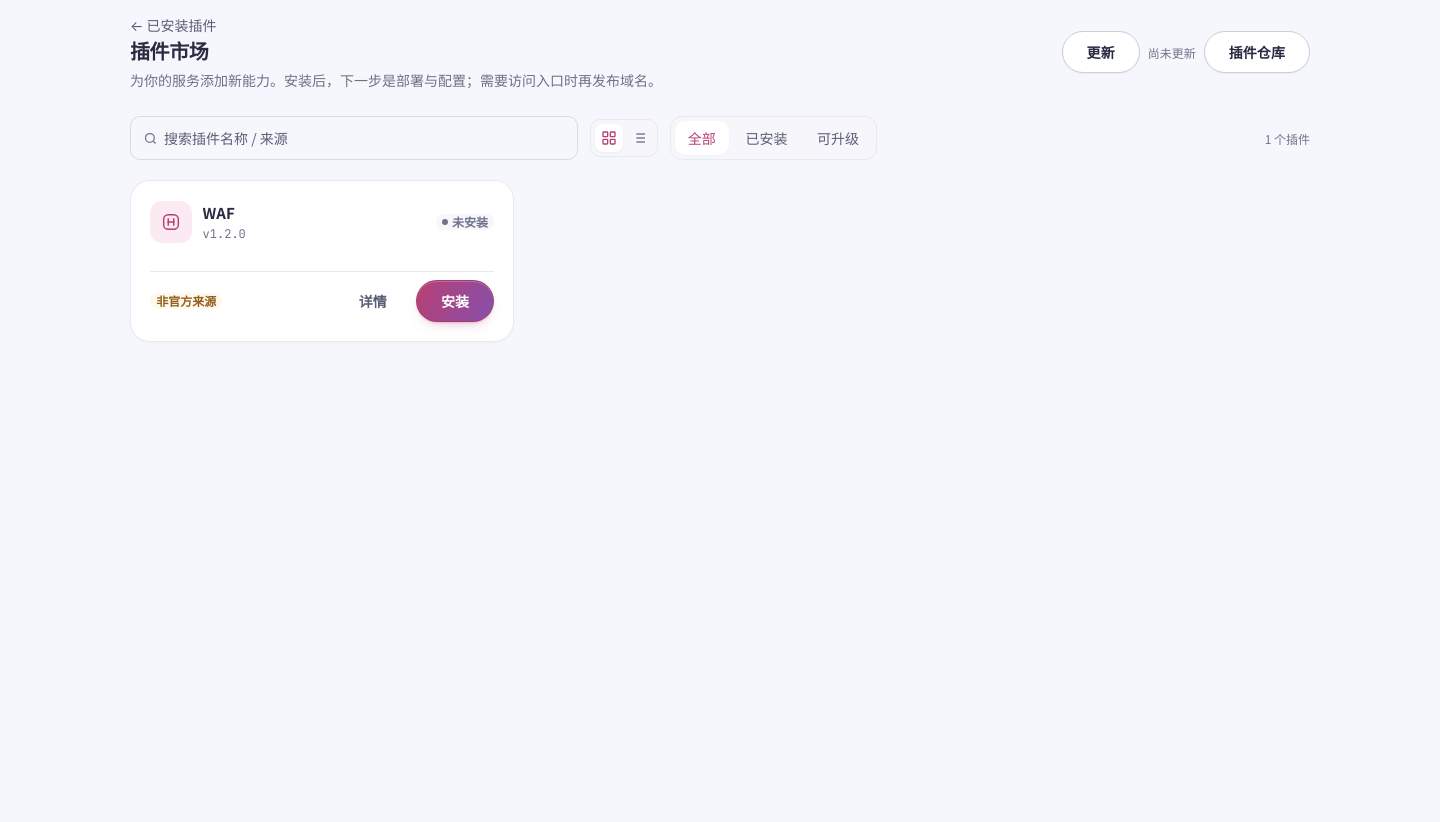
Test: PluginMarketplacePage › does not mutate from stale installed data if the final status refresh fails
Click the button "安装": (455, 301) [416, 280, 494, 322]
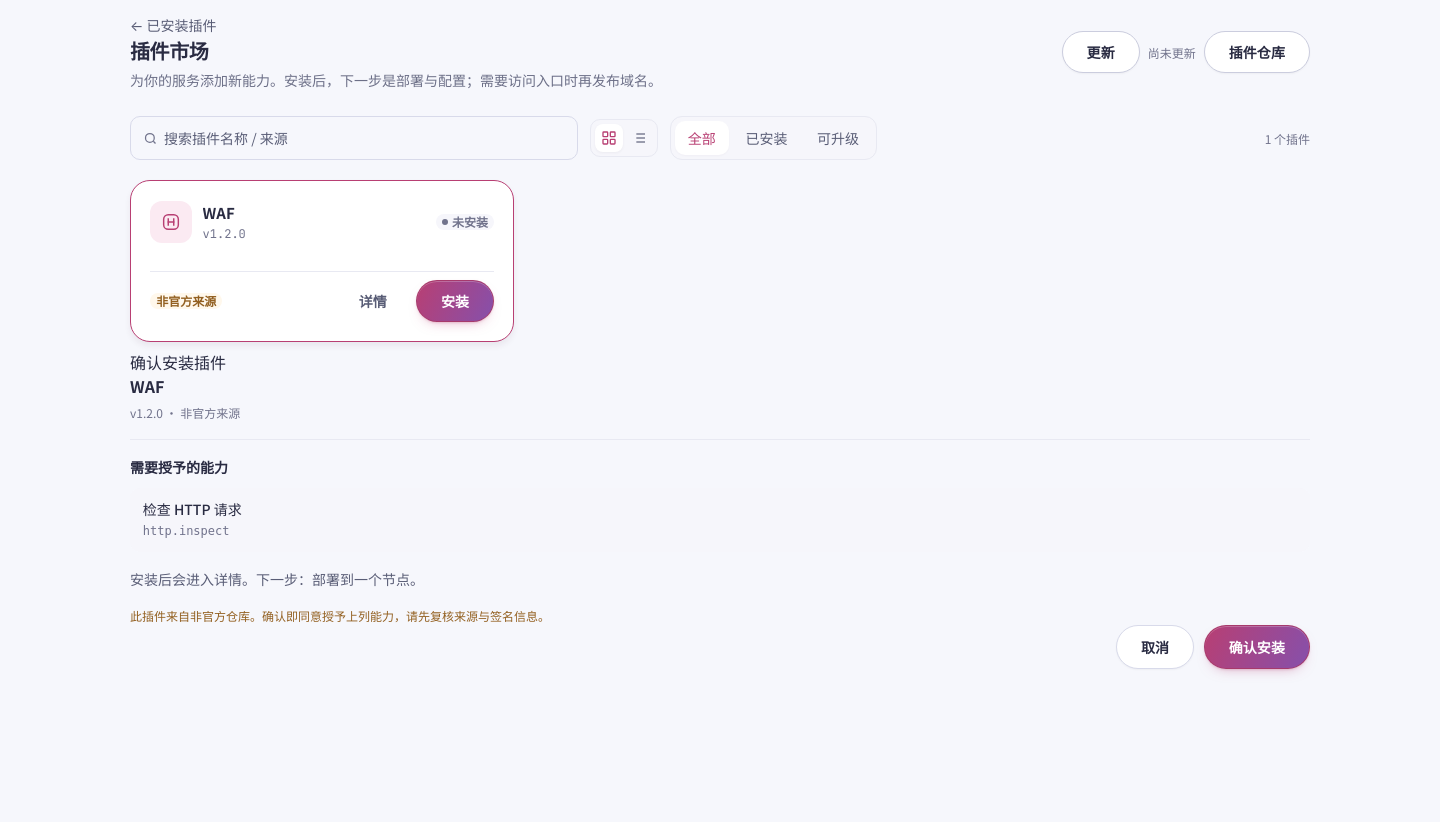
Click the button with test id "marketplace-confirm-submit": (1257, 647) [1204, 625, 1310, 669]
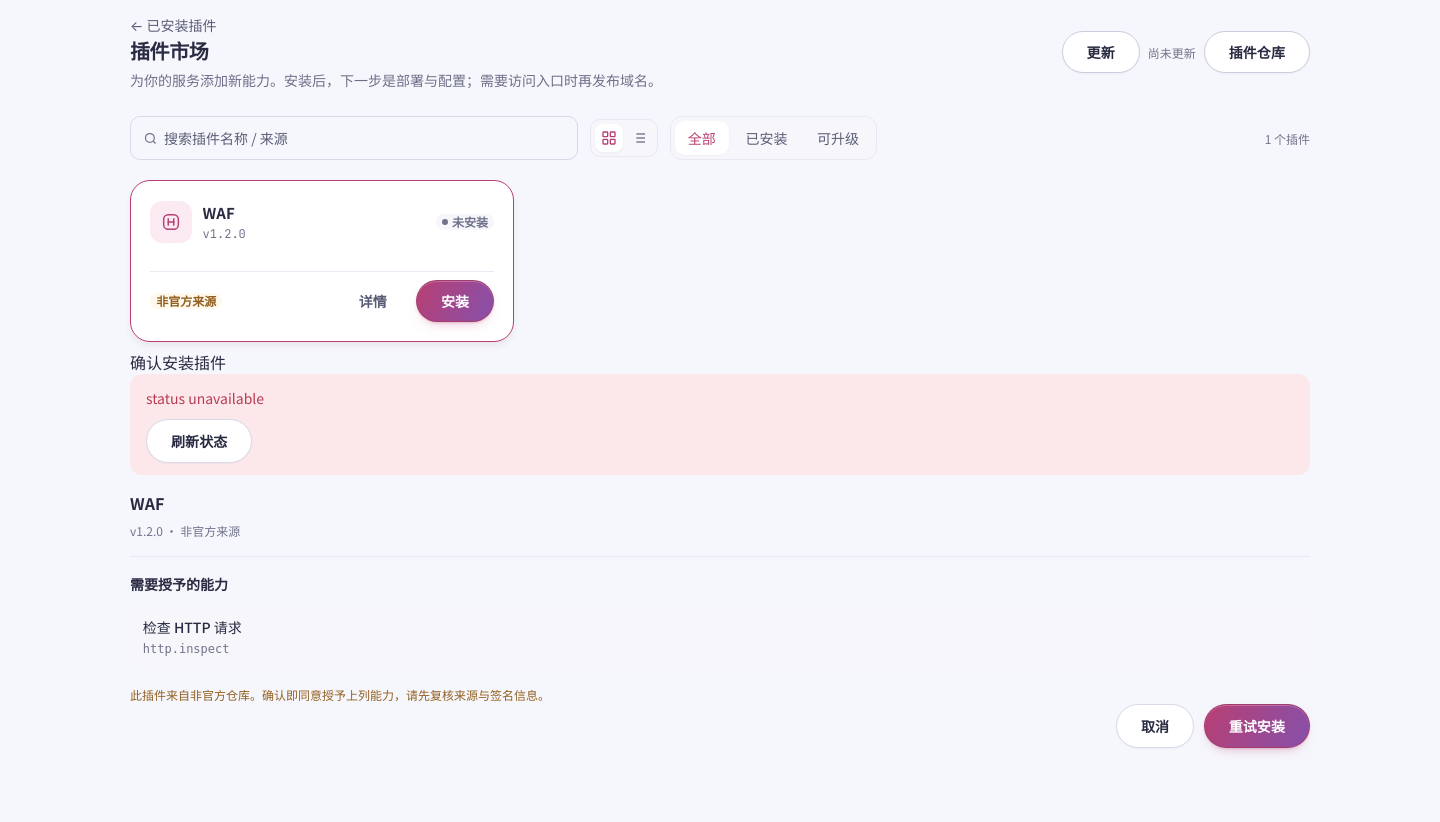
Now the message with test id "marketplace-action-error" shows "status unavailable", box [146, 388, 264, 408]
